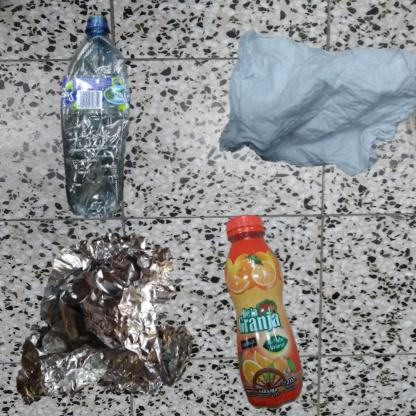aluminio: (10, 213, 223, 416)
botella: (10, 10, 228, 284), (213, 213, 317, 416)
papel: (213, 10, 416, 206)
